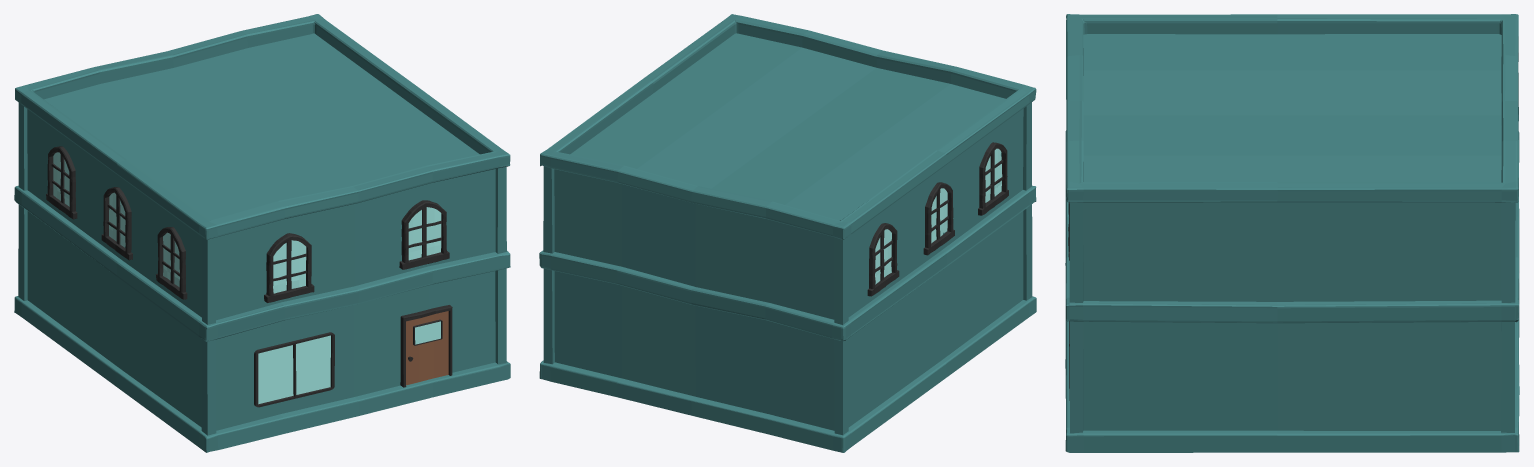
File: school 1.fbx
3 renders of one model, left to right at view 1: azimuth 30°, elevation 25°; view 2: azimuth 150°, elevation 25°; view 3: azimuth 270°, elevation 25°, orthographic. The views are drawn at different scales.
Parts seen in each view (by area): view 1: Cube.039; view 2: Cube.039; view 3: Cube.039.
Boxes of the visible parts, <box> form: Cube.039: <box>14,14,510,452</box>; Cube.039: <box>539,14,1036,452</box>; Cube.039: <box>1065,14,1519,452</box>.
Bounding box in the file's own units: 1135 × 811 × 1242.
